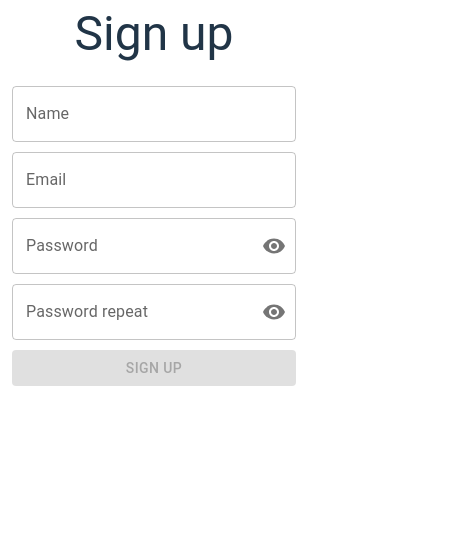
Test case: Sign up page › Interactions › Displays account activation notification after successfully sign up request
Type "username" into the field labelled "Name". click: [154, 114]
box: x1=12 y1=86 x2=296 y2=142
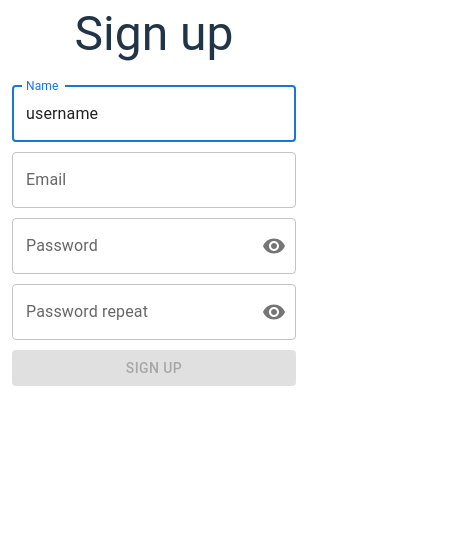
Type "test@email.com" into the field labelled "Email". click: [154, 180]
box: x1=12 y1=152 x2=296 y2=208
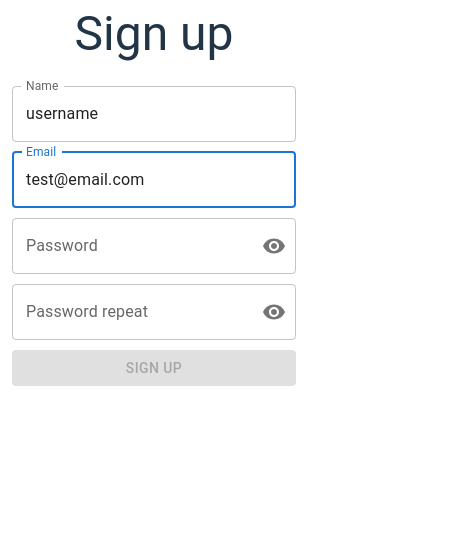
Type "password" into the password field with placeholder "Enter you password". click: [129, 246]
box: x1=12 y1=218 x2=246 y2=274
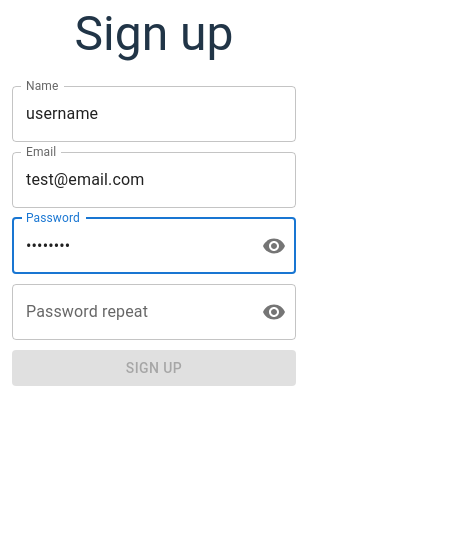
Type "password" into the password field with placeholder "Repeat your password". click: [129, 312]
box: x1=12 y1=284 x2=246 y2=340
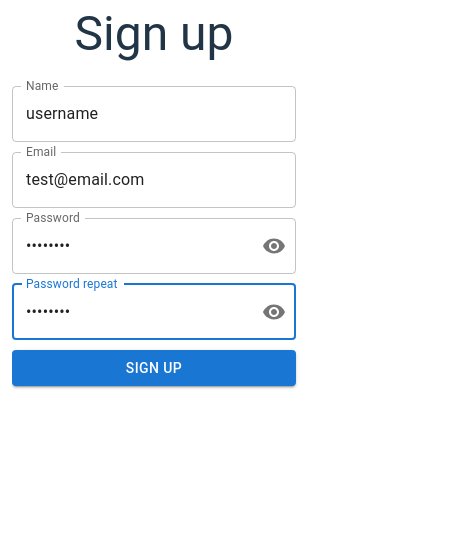
Expected: the text "Please check your e-mail to activate your account" is not shown
Click the button "Sign Up". click: [154, 368]
box: x1=12 y1=350 x2=296 y2=386
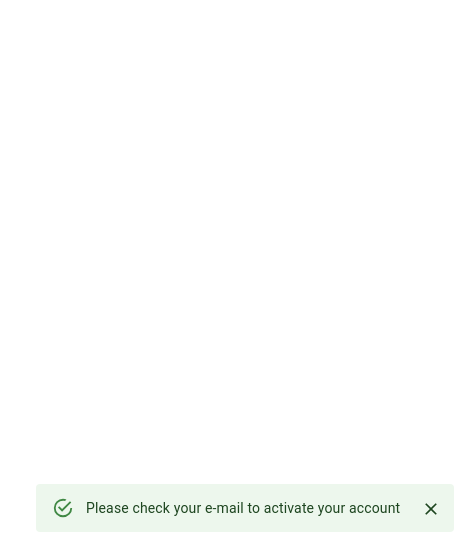
Result: the text "Please check your e-mail to activate your account" is shown at x1=86 y1=500 x2=400 y2=516
